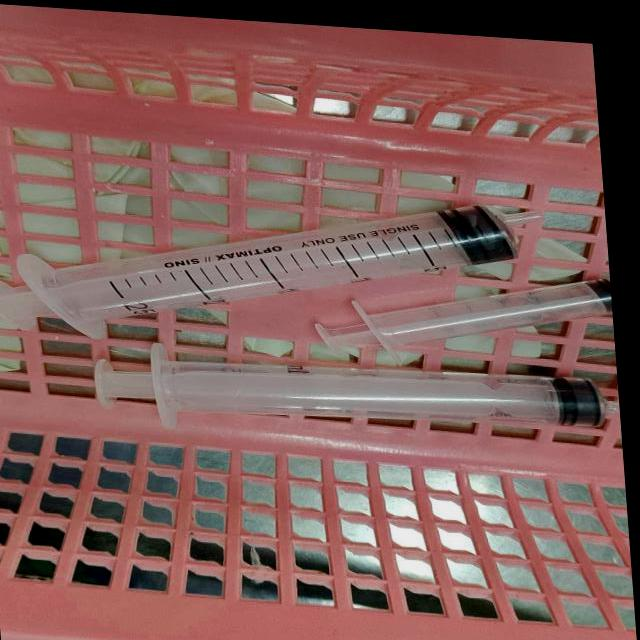General: (1, 7, 631, 637)
Sharps: (14, 202, 540, 340), (92, 342, 616, 432), (315, 277, 612, 356)
